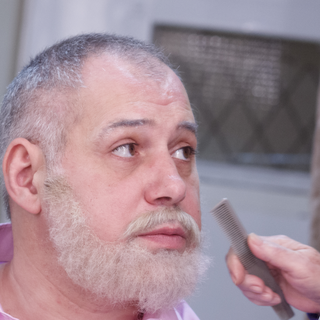eye: (103, 139, 149, 163), (165, 139, 208, 164)
